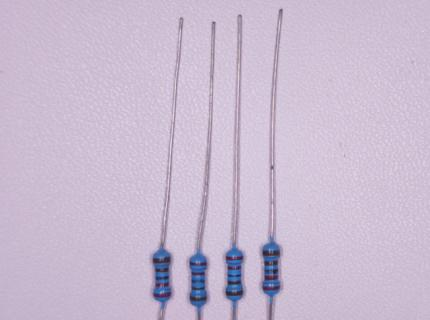Black band: (266, 269, 278, 274), (155, 276, 169, 280), (228, 274, 242, 277), (192, 280, 205, 283)
Brown band: (152, 257, 170, 263), (190, 296, 206, 301), (265, 260, 278, 266), (226, 291, 243, 295), (263, 251, 280, 255), (228, 280, 241, 284), (156, 268, 168, 272), (192, 287, 205, 290)
Red band: (153, 292, 171, 297), (264, 285, 280, 290), (190, 262, 207, 266), (156, 282, 169, 287), (227, 256, 243, 260), (265, 276, 278, 280), (228, 266, 240, 270), (192, 272, 204, 275)
